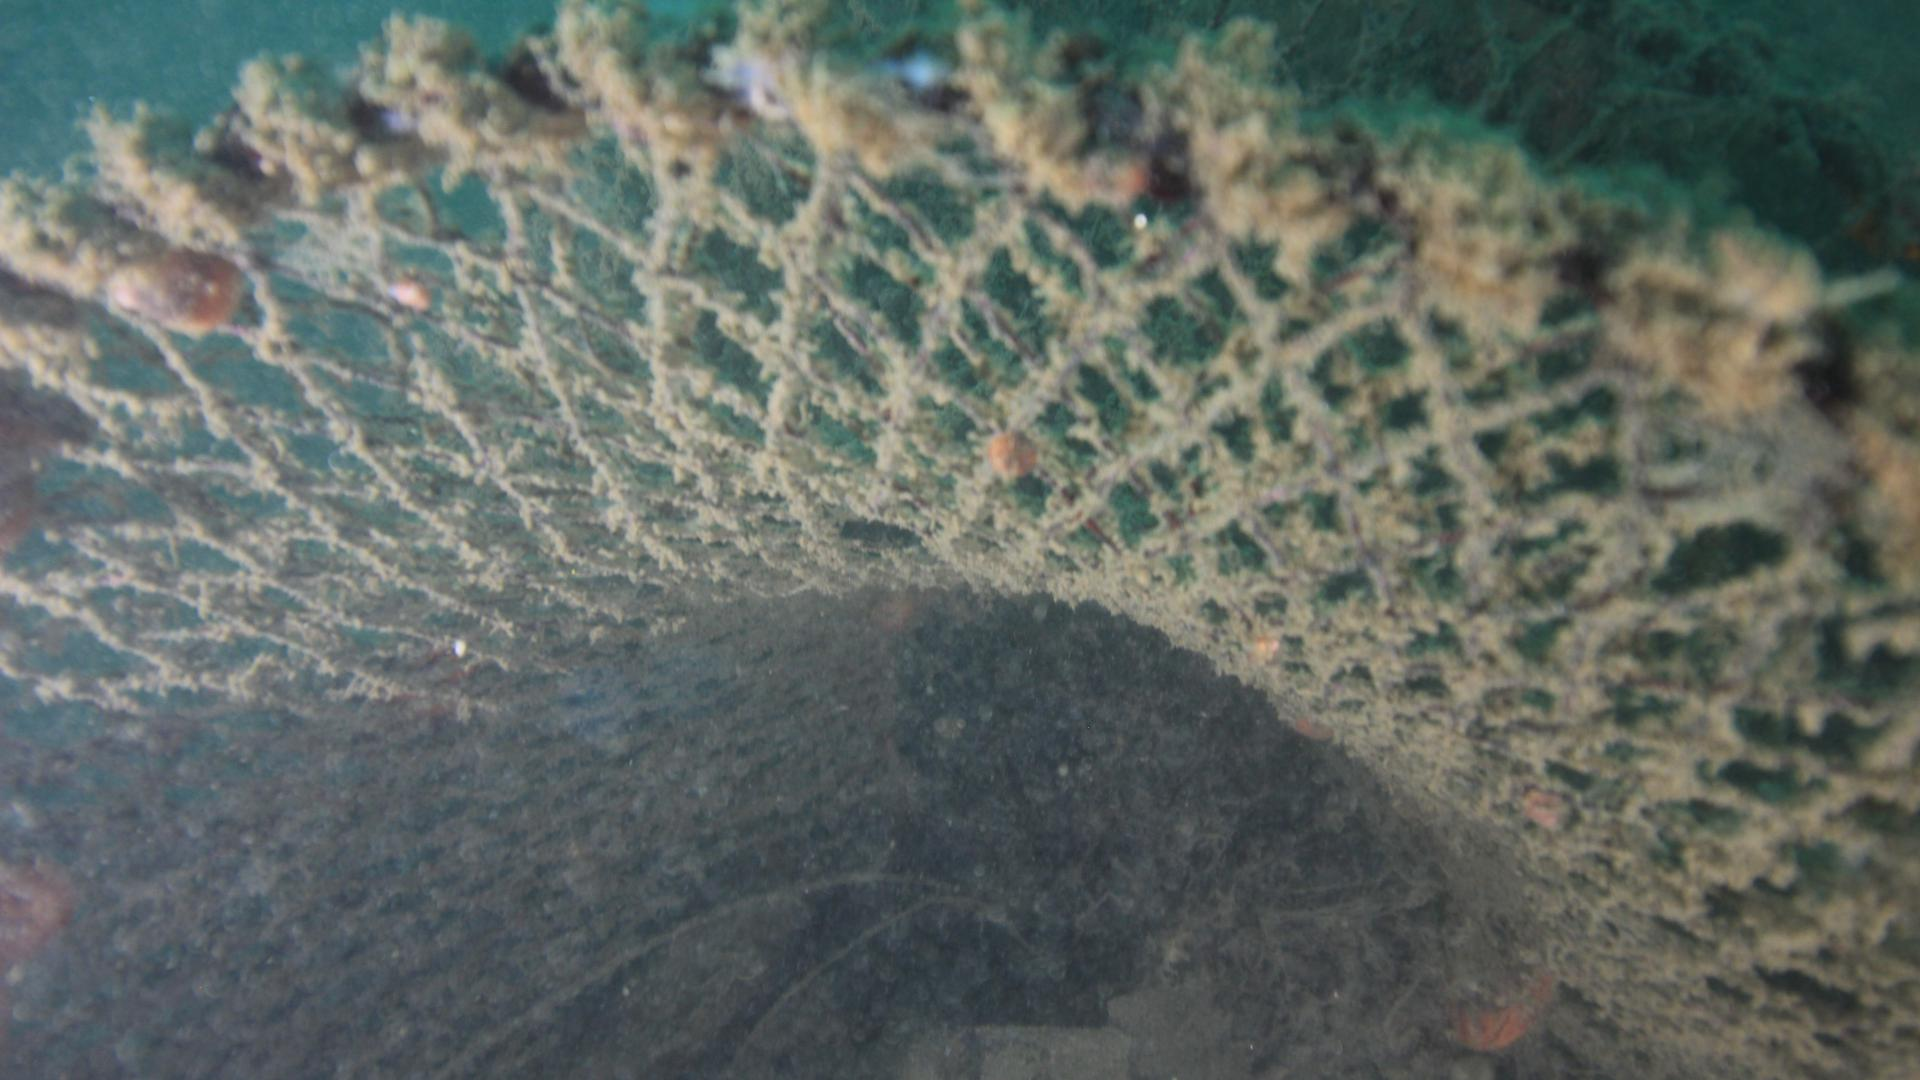circular fish trap: (9, 0, 1920, 1080)
